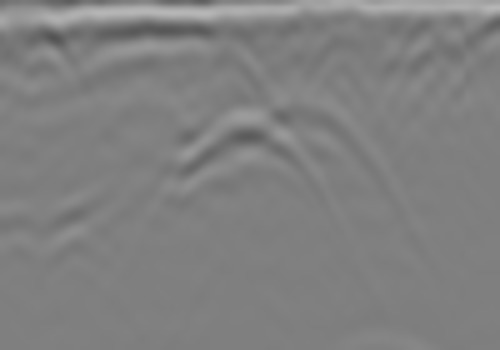hyperbola: (137, 106, 344, 316)
